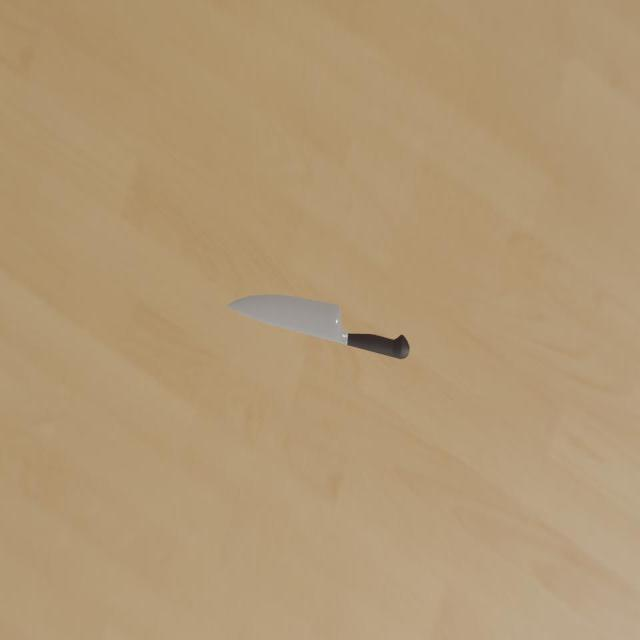knife: (346, 333, 410, 359)
